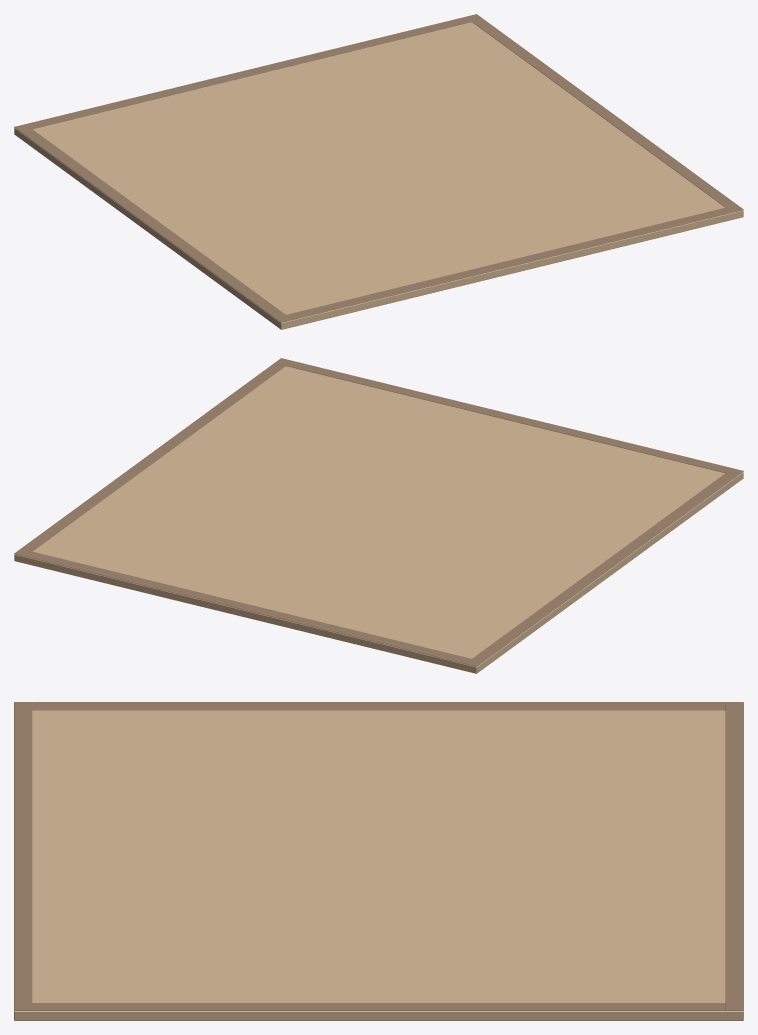
The model's file is bedroom-and-living-room-furniture-flat-floor-4m-b976c6d1.glb.
The picture shows the model from 3 angles, top to bottom: view 1: azimuth 30°, elevation 25°; view 2: azimuth 150°, elevation 25°; view 3: azimuth 270°, elevation 25°; orthographic projection. The views are drawn at different scales.
Visible parts, largest first — view 1: flat-floor-4m; view 2: flat-floor-4m; view 3: flat-floor-4m.
Boxes of the visible parts, left/top/right/bottom form: flat-floor-4m: left=14, top=14, right=743, bottom=329; flat-floor-4m: left=14, top=358, right=743, bottom=673; flat-floor-4m: left=14, top=702, right=743, bottom=1020.
Bounding box in the file's own units: 4 × 0.064 × 4.
